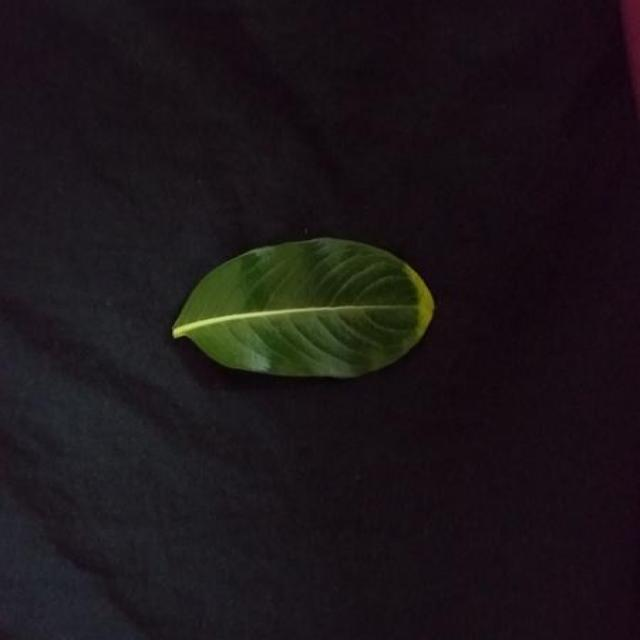catharanthus: (172, 238, 432, 377)
